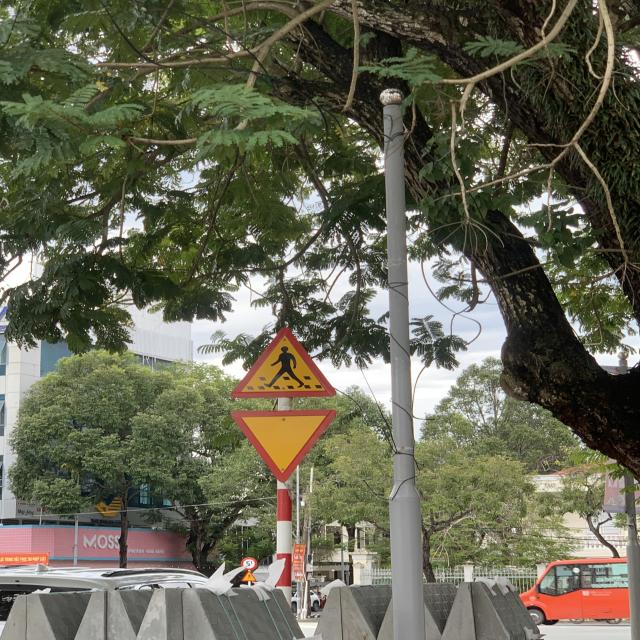Duong_Nguoi_Di_Bo_Sang_Ngang: (228, 326, 340, 396)
Gioi_Han_Toc_Do_25: (228, 409, 338, 483)
